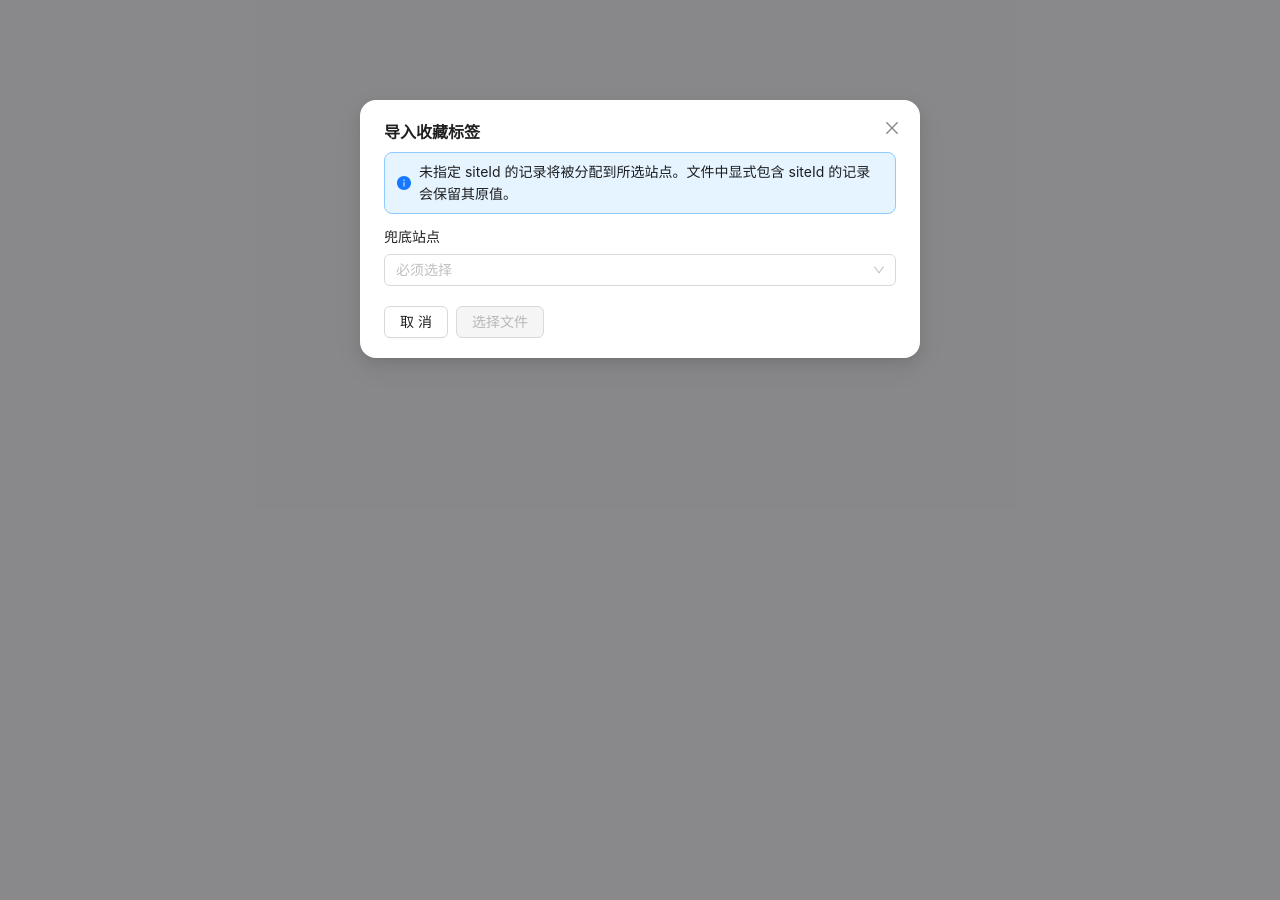
Test: ImportTagsDialog › 选站点后按钮可用
The image size is (1280, 900).
// Click the Select to open it
Click the dropdown labelled "必须选择".
click(424, 270)  # box [396,261,452,278]
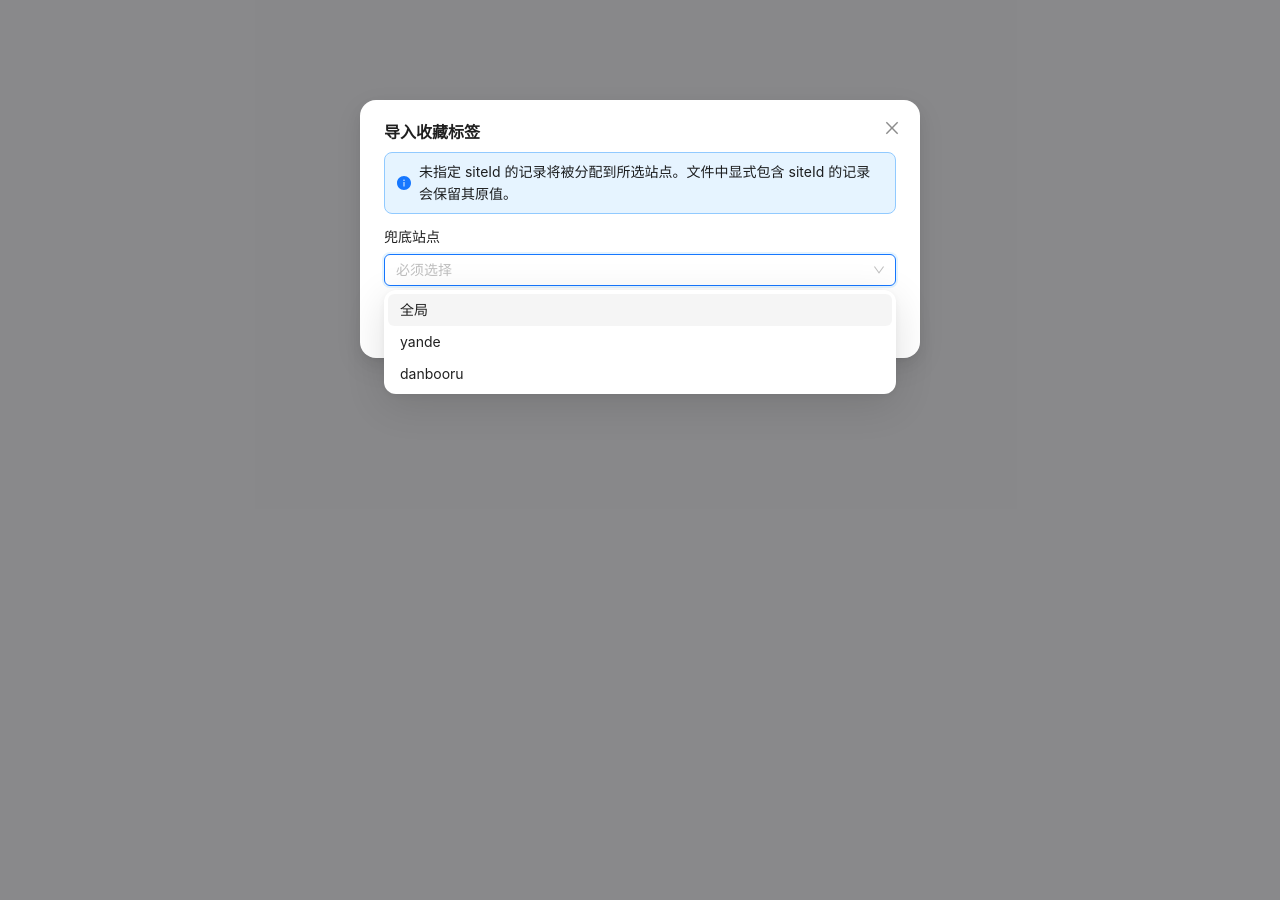
Expected: the text "全局" is shown
Click the text "全局".
click(414, 310)  # box [400,301,428,318]
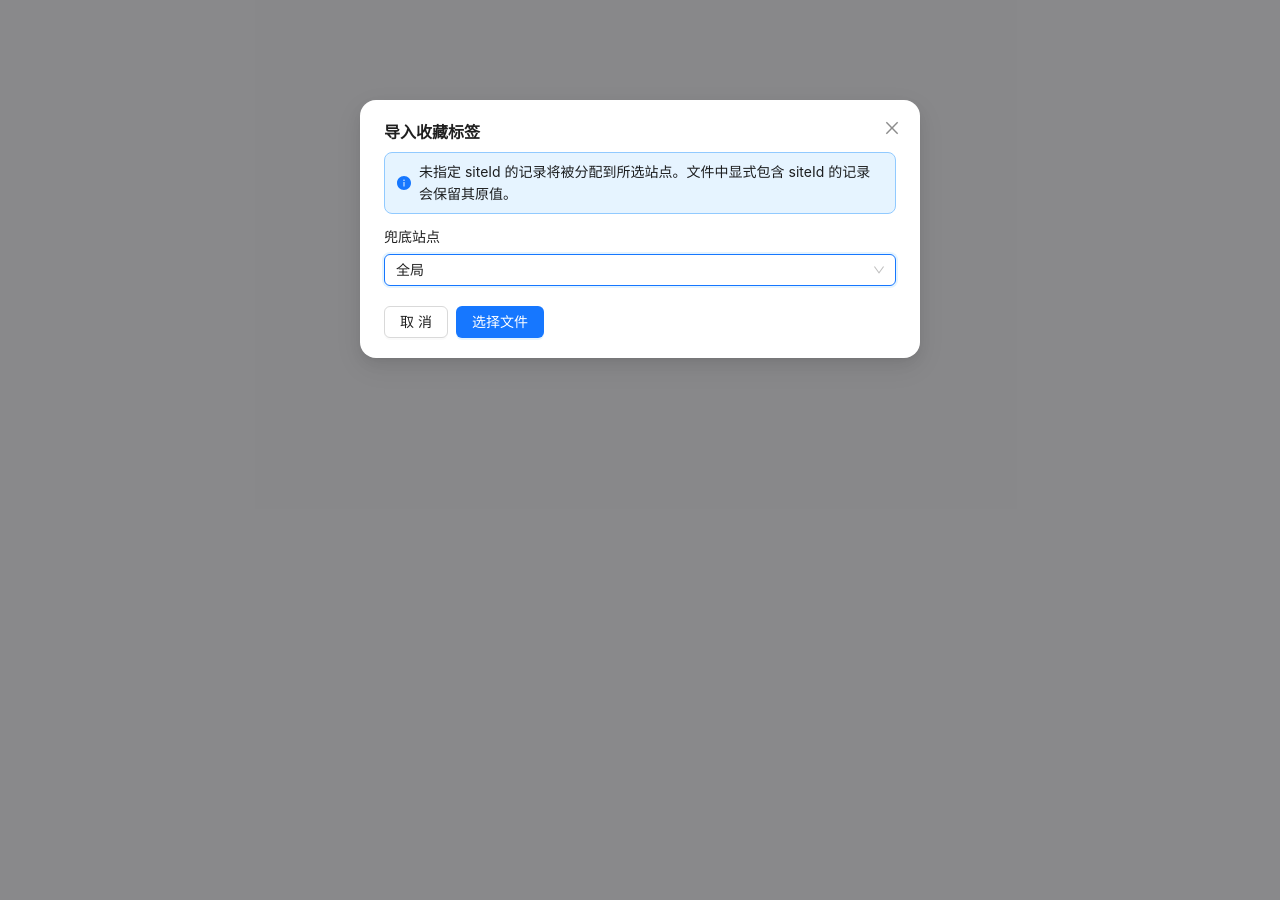
Expected: the button "选择文件" is enabled, [456,306,544,338]
